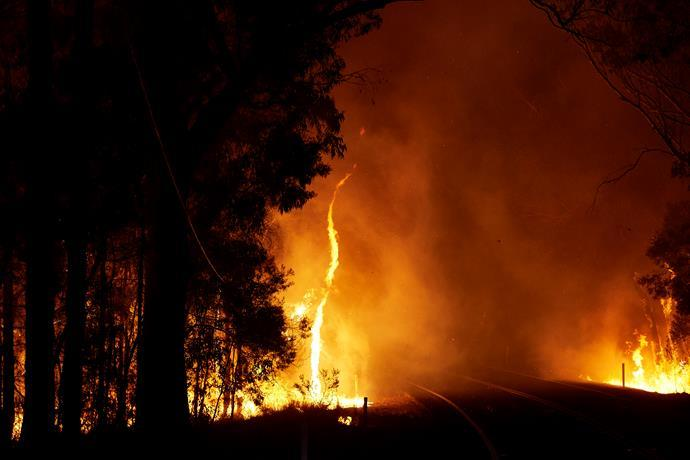fire: (308, 229, 340, 408), (636, 351, 680, 393)
